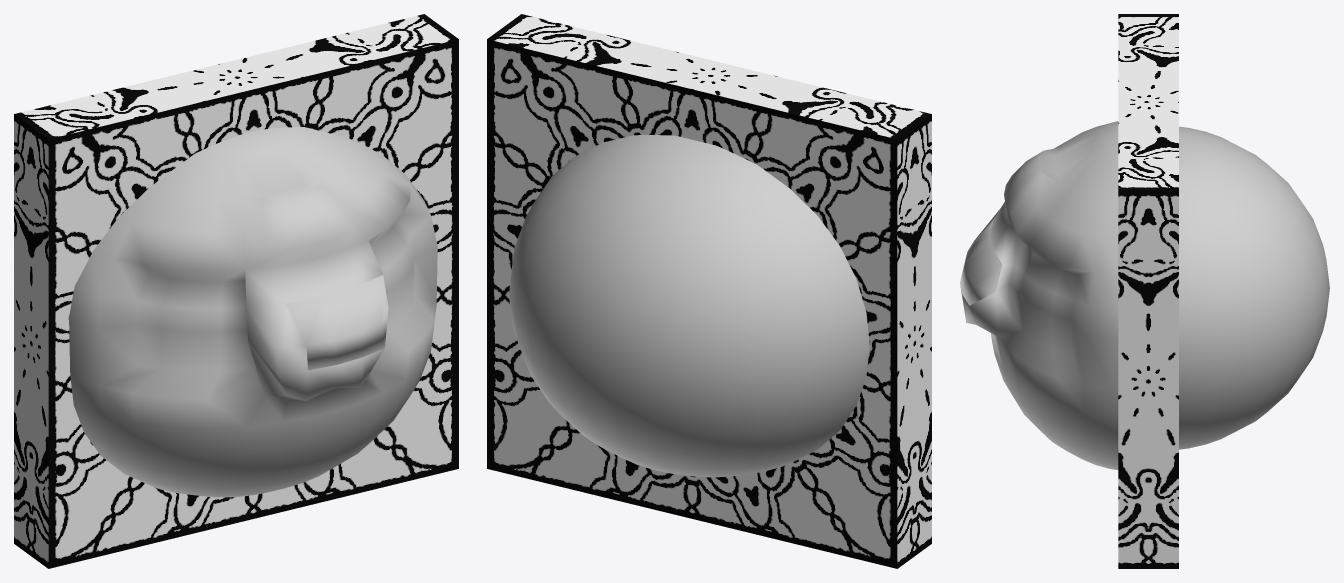
File: SphereA.fbx
3 renders of one model, left to right at view 1: azimuth 30°, elevation 25°; view 2: azimuth 150°, elevation 25°; view 3: azimuth 270°, elevation 25°, orthographic. The views are drawn at different scales.
Visible parts, largest first — view 1: OrbBoxFrontA, OrbBoxA; view 2: OrbBoxA, OrbBoxBackA; view 3: OrbBoxFrontA, OrbBoxBackA, OrbBoxA.
Boxes of the visible parts, x1,y1,x2,y2 form: OrbBoxFrontA: (69, 127, 437, 497); OrbBoxA: (14, 14, 458, 568); OrbBoxA: (487, 14, 931, 568); OrbBoxBackA: (509, 135, 869, 477); OrbBoxFrontA: (960, 121, 1118, 469); OrbBoxBackA: (1179, 126, 1329, 449); OrbBoxA: (1118, 14, 1178, 568).
Bounding box in the file's own units: 242 × 242 × 214.
